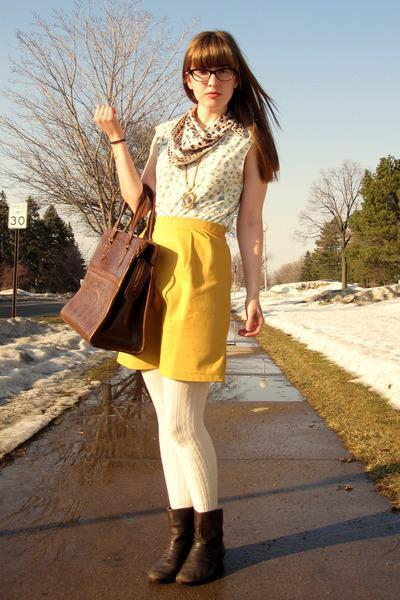bag: (60, 180, 172, 354)
shirt: (150, 112, 247, 227)
shoe: (151, 506, 227, 584)
skirt: (117, 212, 251, 381)
